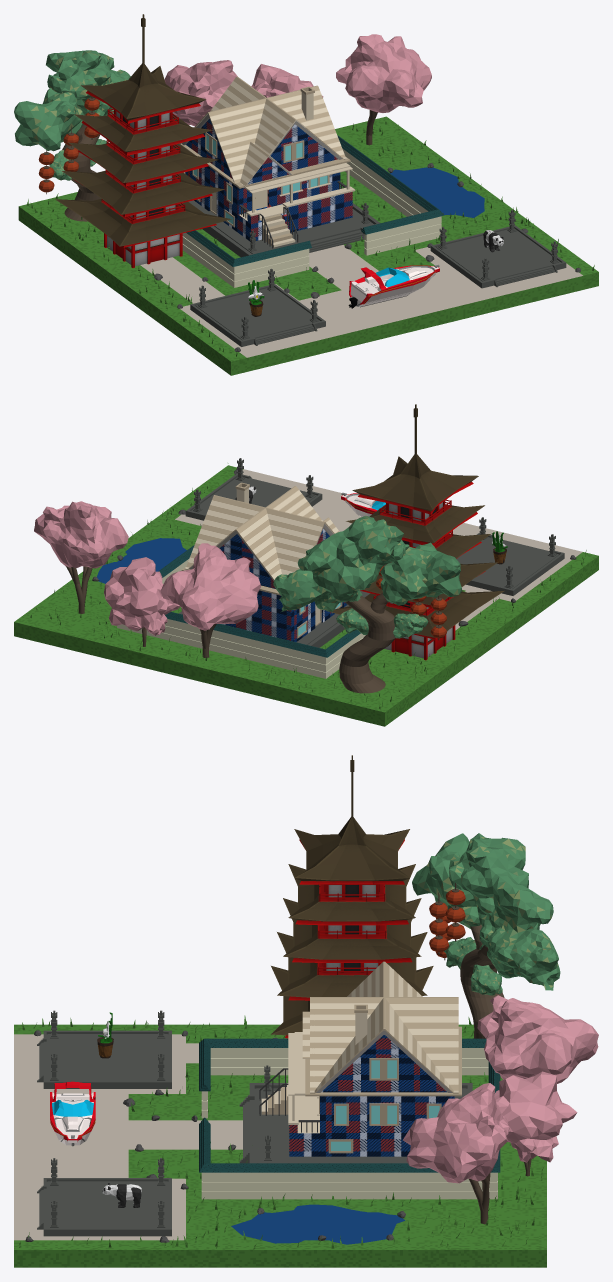
The picture shows the model from 3 angles, top to bottom: view 1: azimuth 30°, elevation 25°; view 2: azimuth 150°, elevation 25°; view 3: azimuth 270°, elevation 25°; orthographic projection. The views are drawn at different scales.
Parts seen in each view (by area): view 1: Cube.005, Cube.171, VEHICLES_BOAT; view 2: Cube.005, Cube.171, VEHICLES_BOAT; view 3: Cube.005, Cube.171, VEHICLES_BOAT.
Part boxes in pixels (x1,y1,x2,y2): Cube.005: (14, 14, 598, 375); Cube.171: (179, 76, 355, 248); VEHICLES_BOAT: (348, 264, 439, 308); Cube.005: (14, 404, 598, 726); Cube.171: (181, 482, 347, 641); VEHICLES_BOAT: (341, 492, 385, 516); Cube.005: (14, 755, 598, 1267); Cube.171: (259, 961, 461, 1156); VEHICLES_BOAT: (50, 1081, 95, 1146).
Bounding box in the file's own units: 4528 × 2713 × 4389.
Materials: 35 (7 with a texture image).
